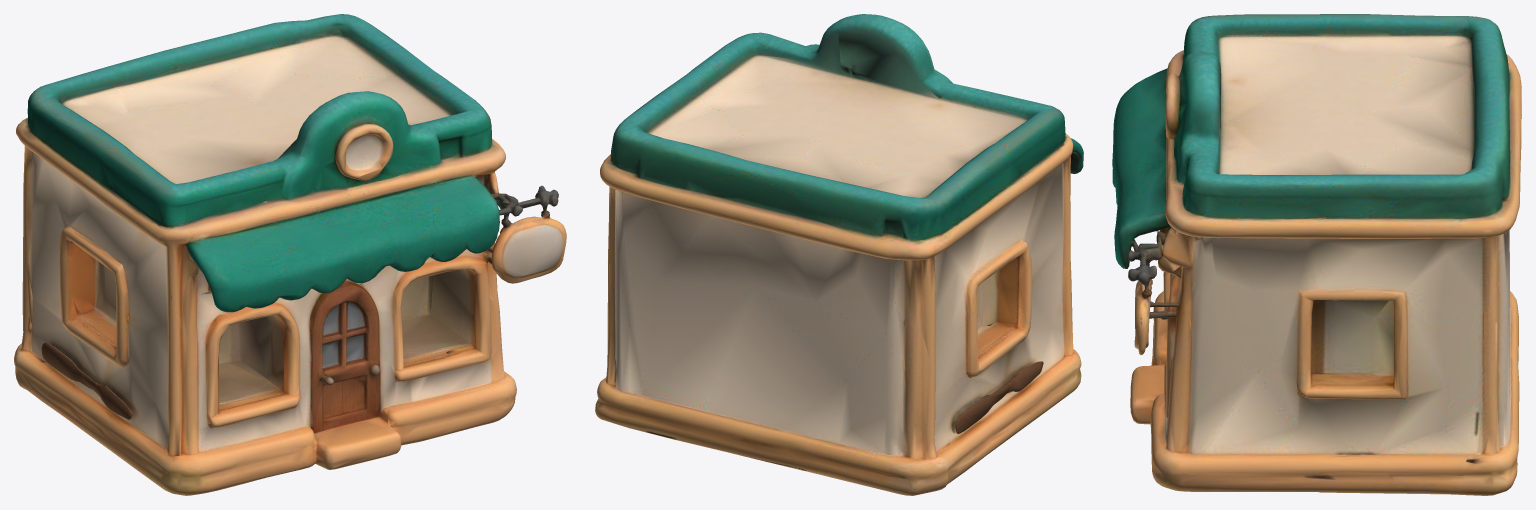
The model's file is building-shop.glb.
3 views of the same model, side by side, from view 1: azimuth 30°, elevation 25°; view 2: azimuth 150°, elevation 25°; view 3: azimuth 270°, elevation 25° (orthographic). The views are drawn at different scales.
Parts seen in each view (by area): view 1: Mesh_0; view 2: Mesh_0; view 3: Mesh_0.
Boxes of the visible parts, x1,y1,x2,y2 form: Mesh_0: (14, 14, 566, 495); Mesh_0: (595, 14, 1083, 495); Mesh_0: (1112, 14, 1521, 495).
Bounding box in the file's own units: 2 × 1.7 × 1.73.
Materials: 1 (1 with a texture image).
